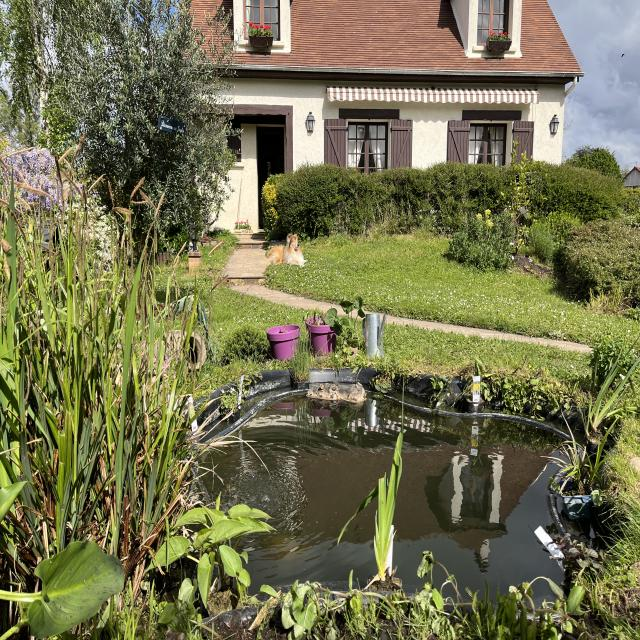Dog: (260, 225, 312, 287)
